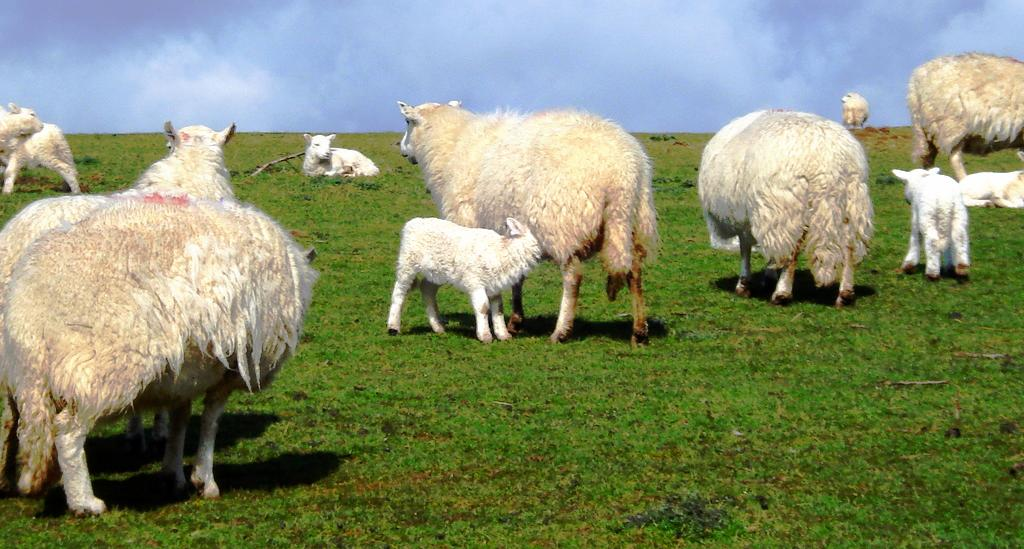Sheep: (0, 196, 320, 516), (0, 118, 244, 446), (394, 101, 662, 348), (699, 104, 883, 308), (384, 216, 545, 343), (912, 56, 1024, 182), (896, 170, 971, 284), (0, 100, 84, 192), (960, 150, 1023, 210), (304, 132, 379, 174), (842, 93, 871, 127)
